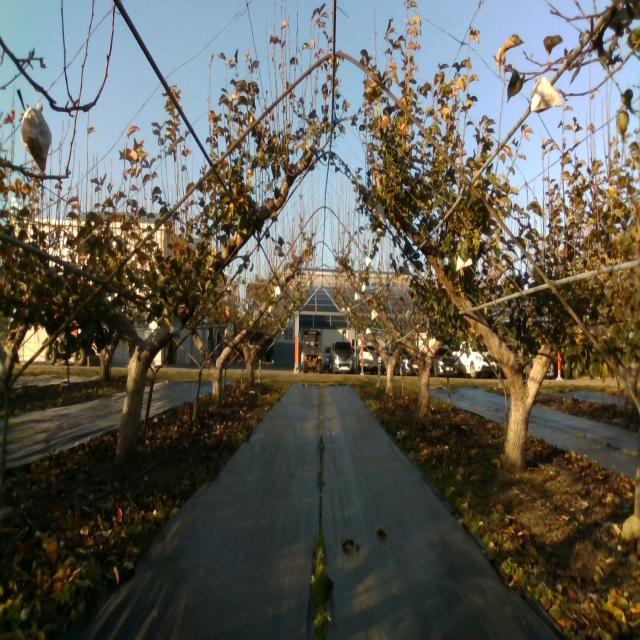pearbags: (22, 102, 52, 171), (530, 76, 562, 112), (372, 202, 387, 225), (169, 317, 183, 337)
